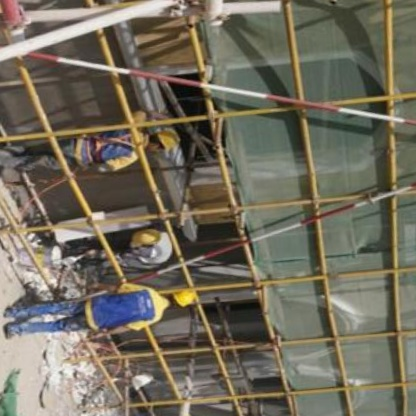yellow: (131, 227, 164, 249), (157, 129, 185, 154), (172, 287, 200, 310)
